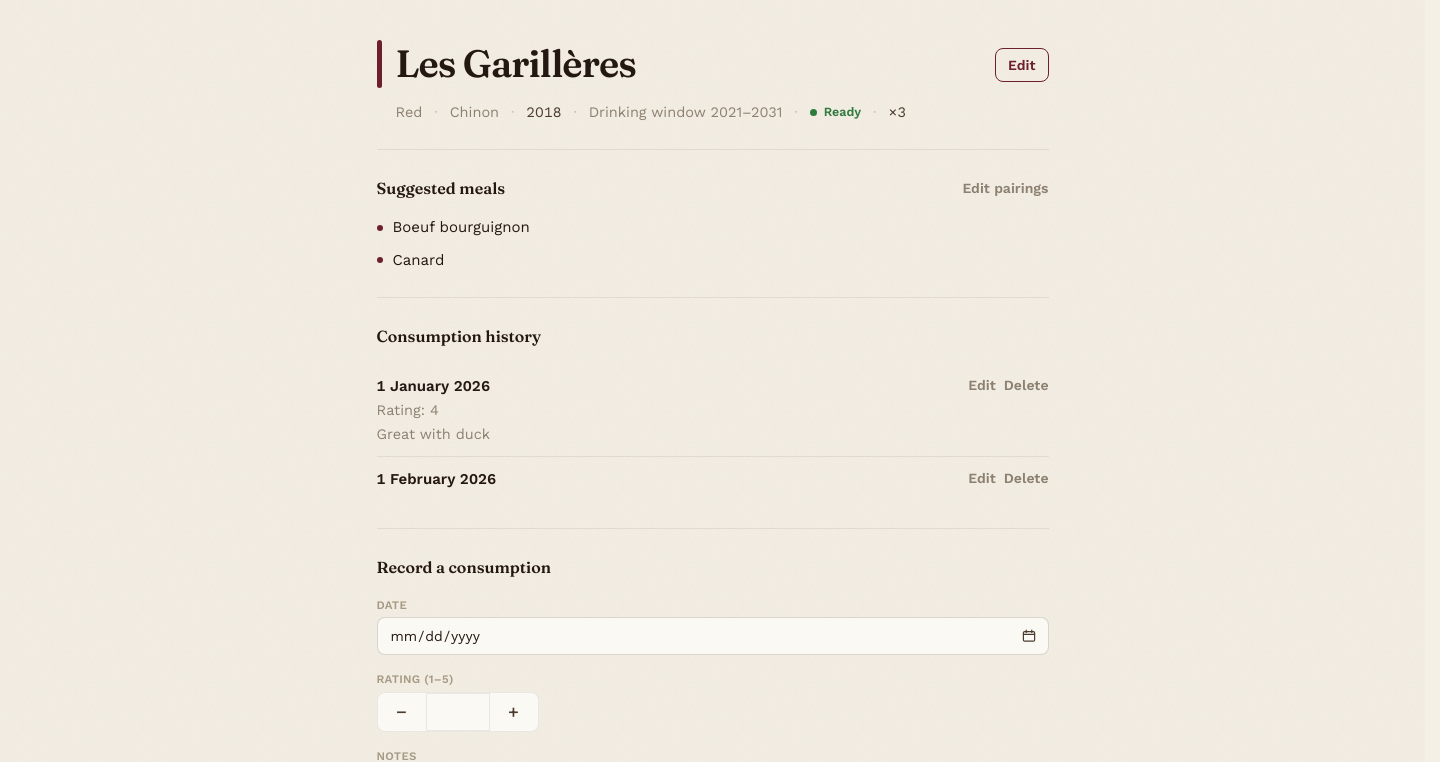
it: WineDetailView › deletes a consumption entry on confirm and refreshes quantity and history
Click the button with test id "consumption-delete-button".
click(1026, 478)  # box [1004,468,1049,488]
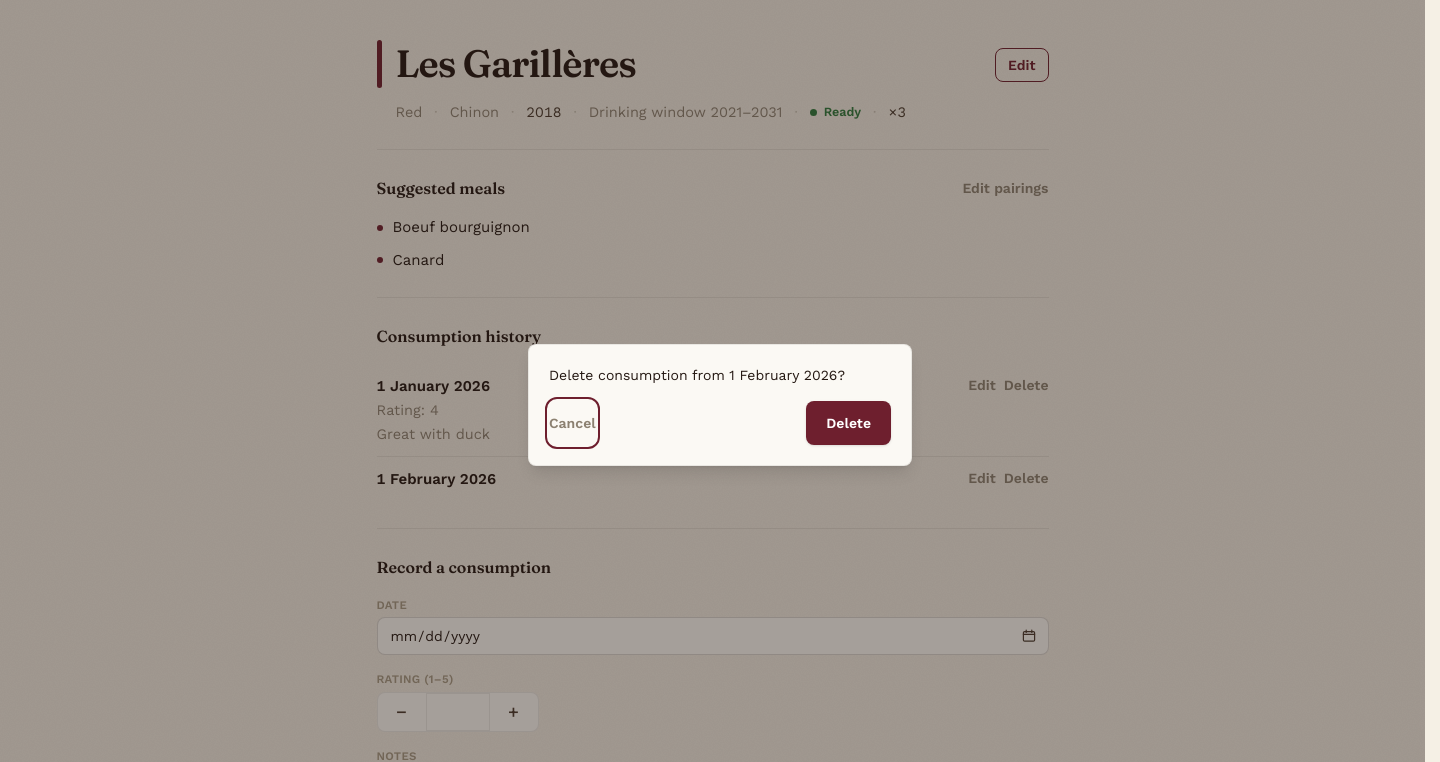
Click the button with test id "confirm-dialog-confirm".
click(849, 423)  # box [806,401,891,445]
(page scrolled)
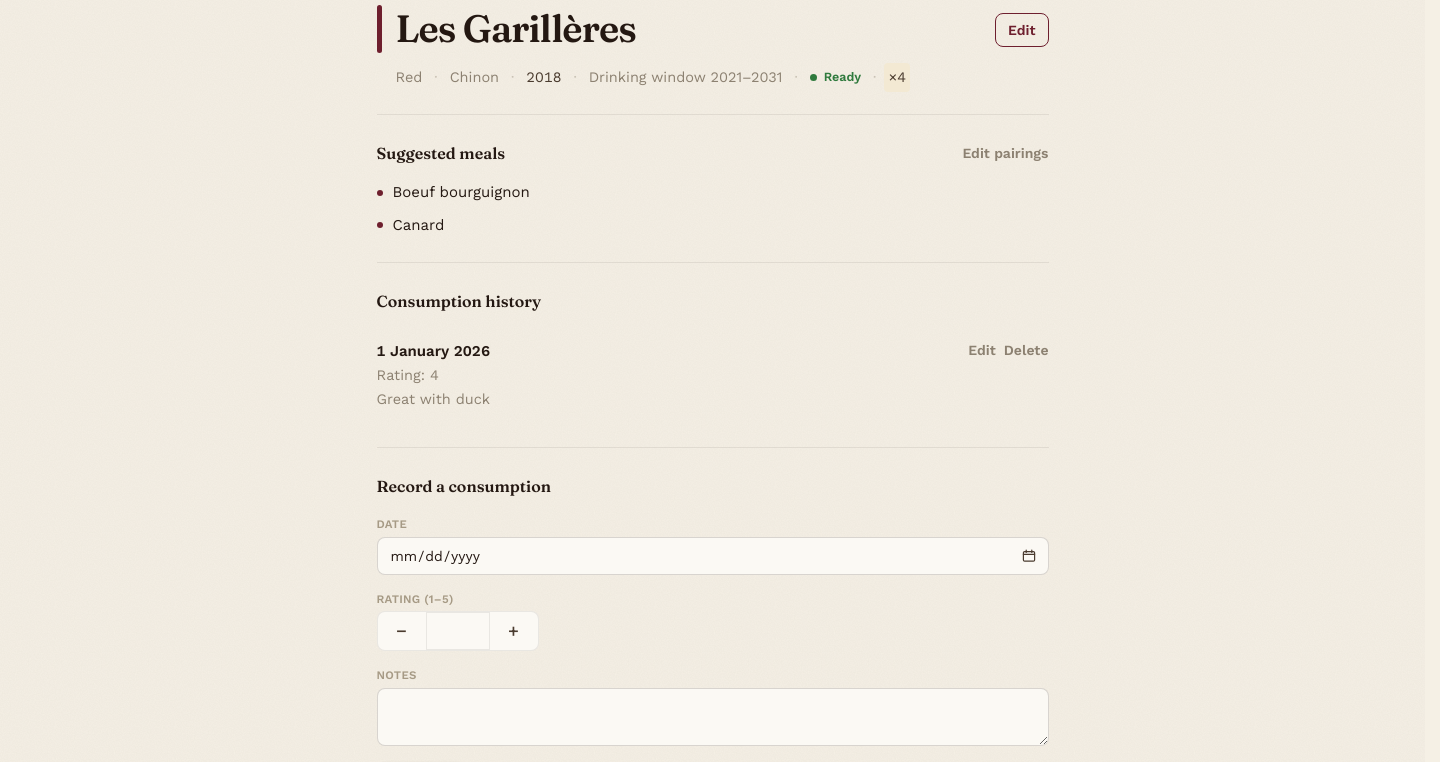
Check: the number of list items with test id "consumption-entry" is 1, box [376,329,1048,421]
Check: the element with test id "wine-detail" shows "×4", box [884,62,910,92]
